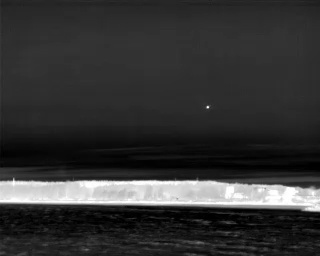HELICOPTER: (204, 102, 212, 112)
